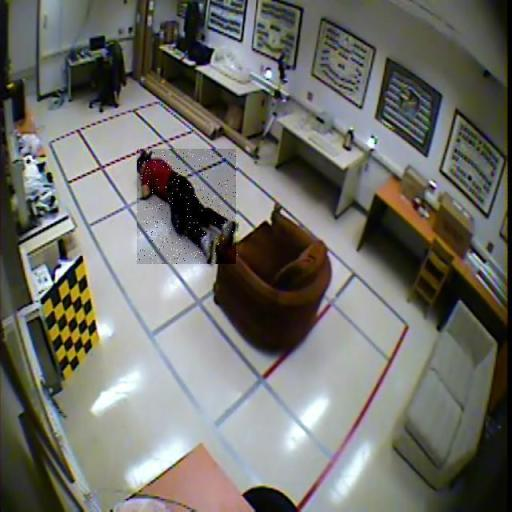Fall: (138, 150, 239, 265)
